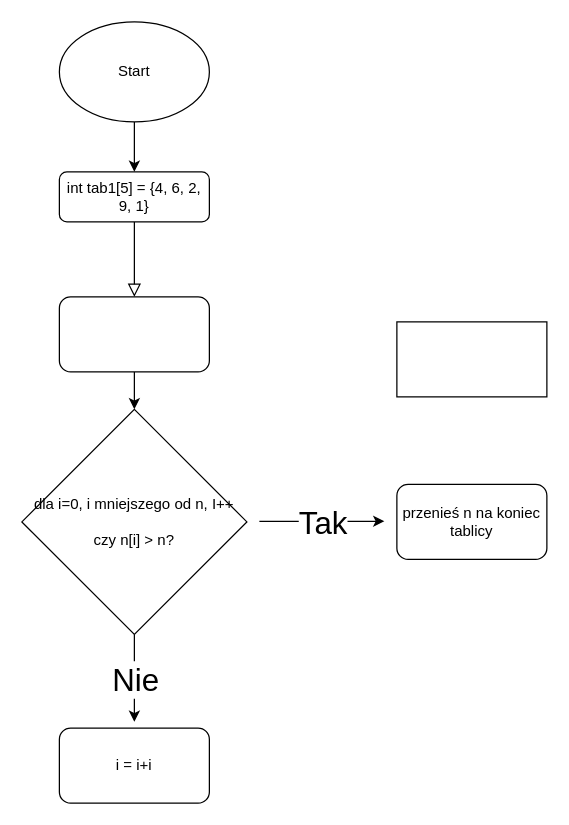
Some shapes in this 569 by 825 pixel diagram are drawn without their labels. Here are the shapes that lost their labels. From the top down, the centre of each, then its label:
[133,334]: tab[n] = Najwiekszy_element
[471,359]: niestety niezbyt rozumiem polecenie
